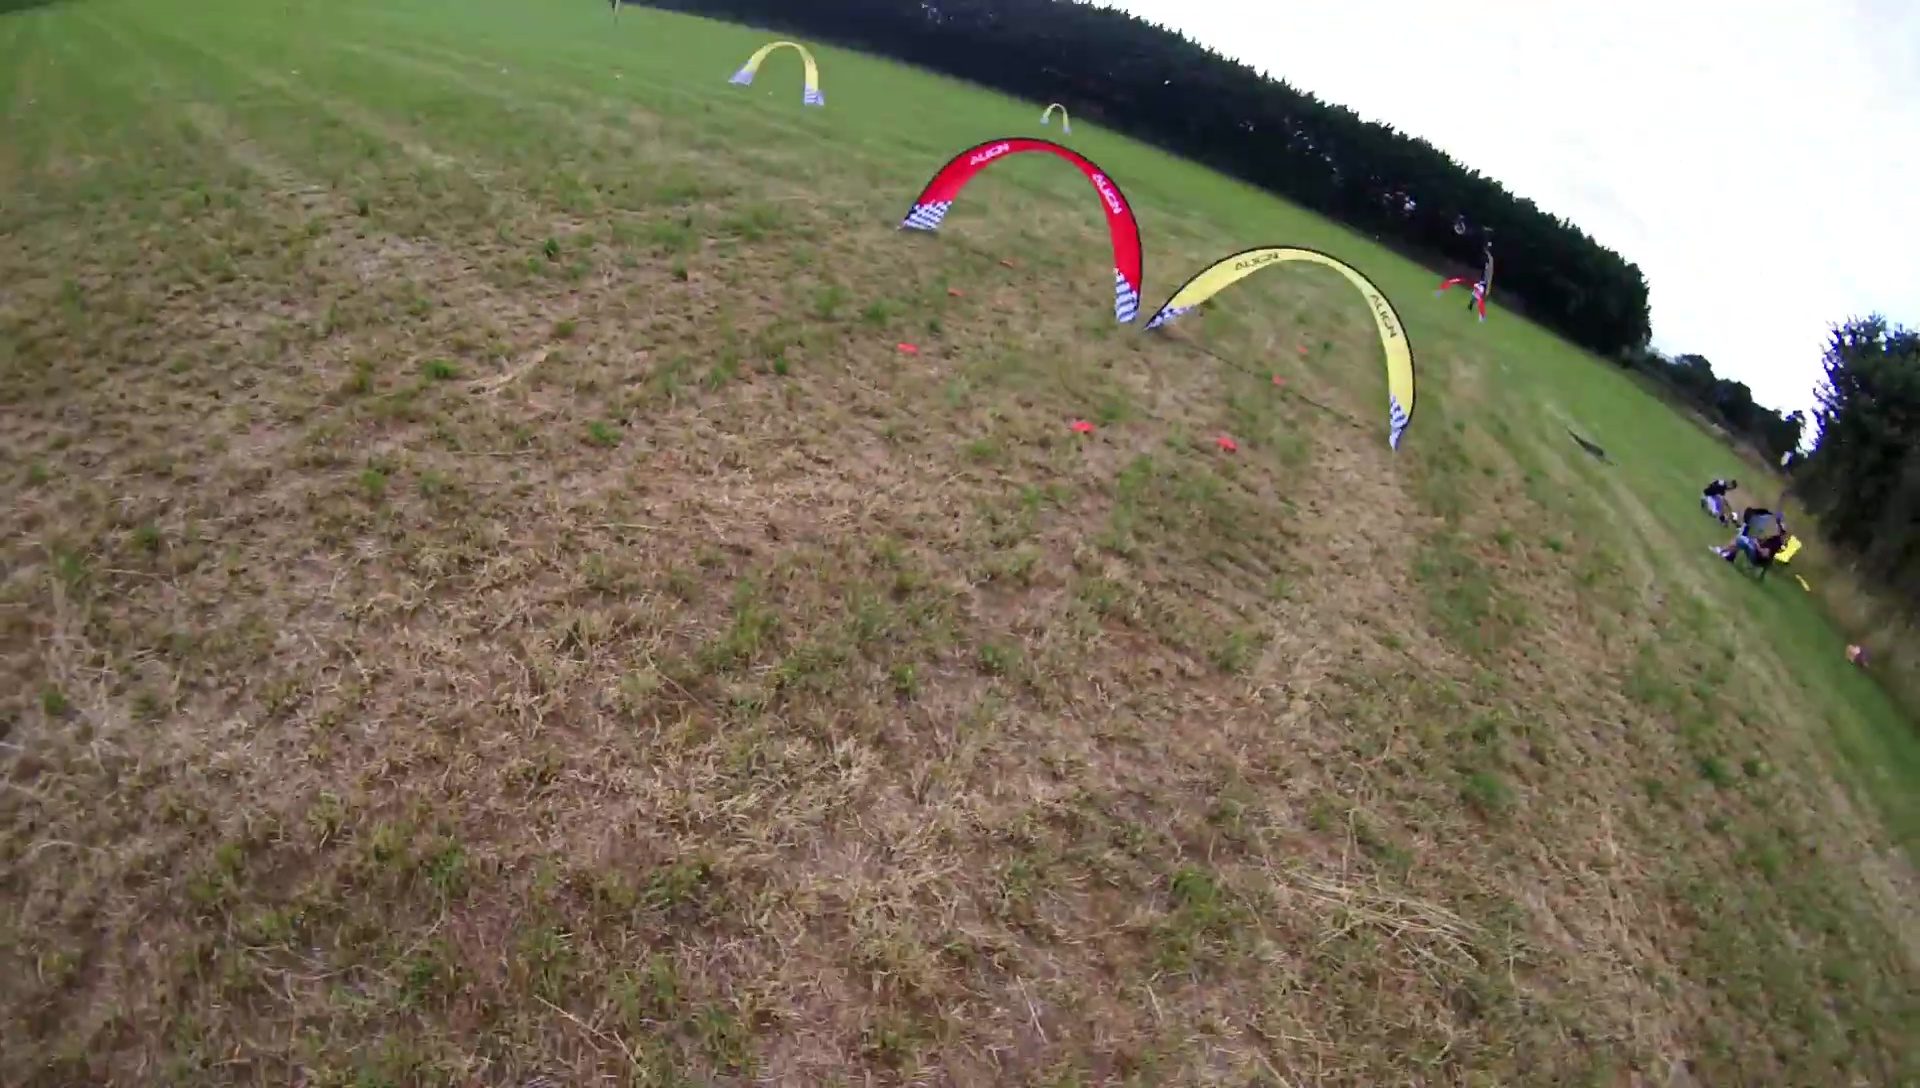gate: (1143, 244, 1420, 456), (895, 135, 1145, 326), (727, 38, 828, 107), (1039, 102, 1073, 141)
